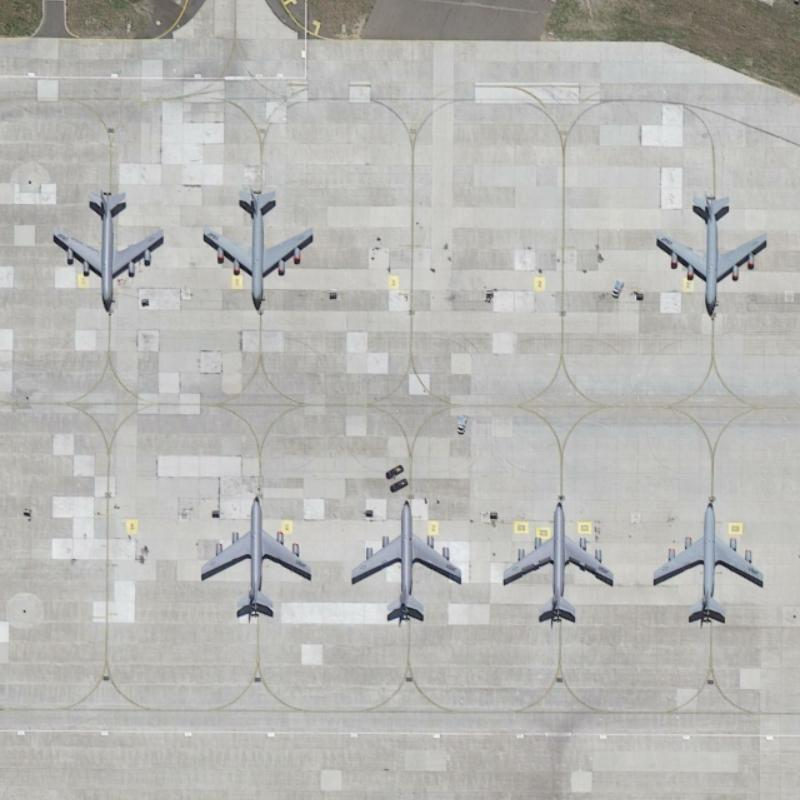A14: (45, 175, 180, 321), (345, 480, 470, 637), (648, 187, 782, 323), (199, 182, 325, 320), (498, 488, 618, 632), (648, 493, 770, 633), (191, 493, 320, 620)
